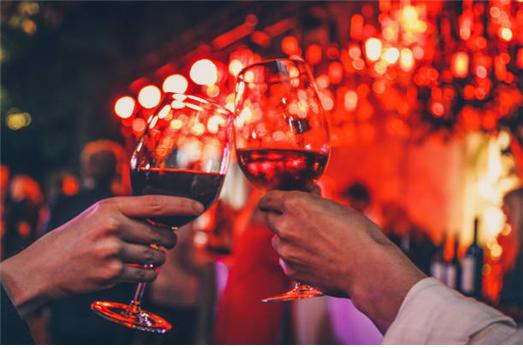alcohol: (91, 92, 239, 335), (234, 55, 331, 304)
